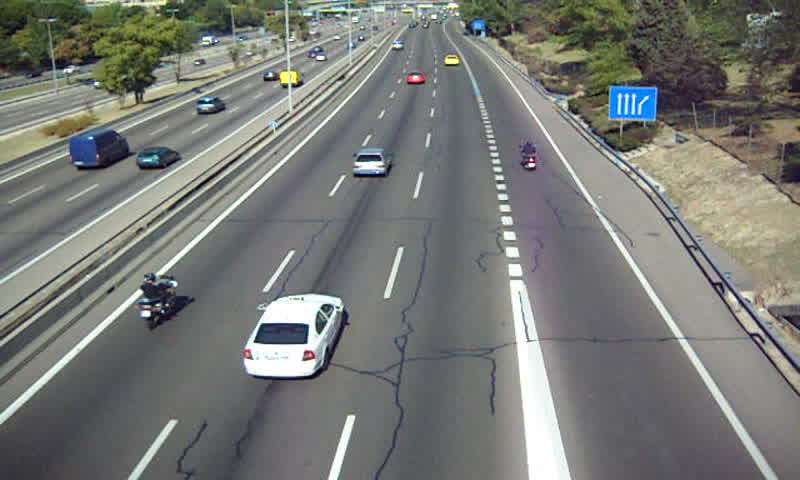car: (243, 294, 345, 378), (352, 149, 394, 177), (407, 70, 425, 87), (444, 55, 461, 66)
motorcycle: (137, 271, 176, 331), (520, 140, 539, 171)
